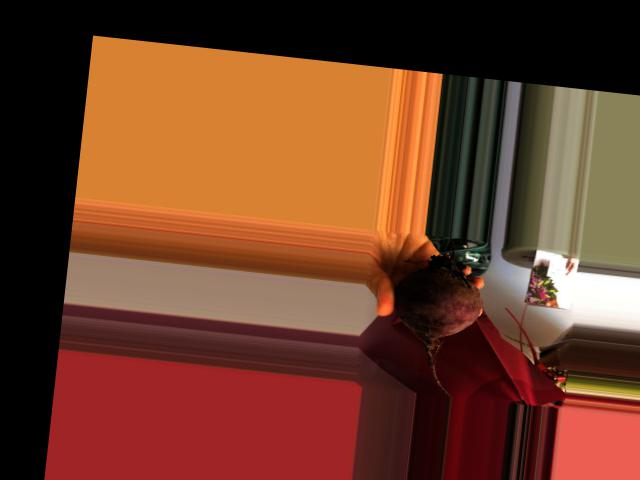beet: (385, 232, 489, 398)
